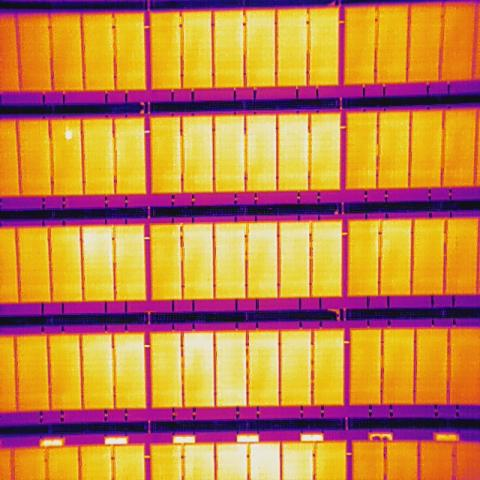fault: (64, 128, 72, 140)
